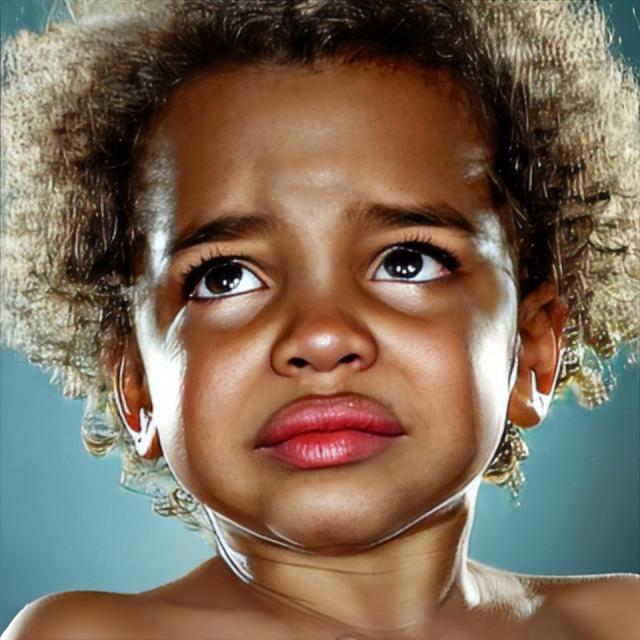sad: (135, 43, 520, 550)
